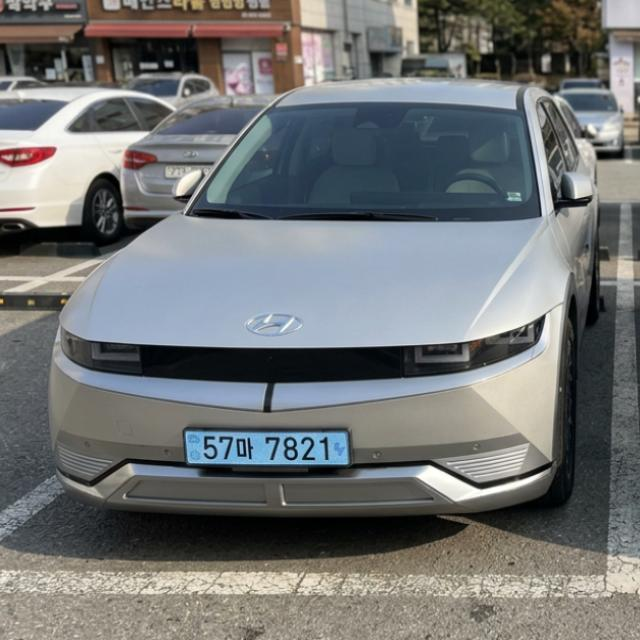car: (171, 417, 382, 482)
carev: (331, 430, 353, 467), (181, 427, 201, 467)
